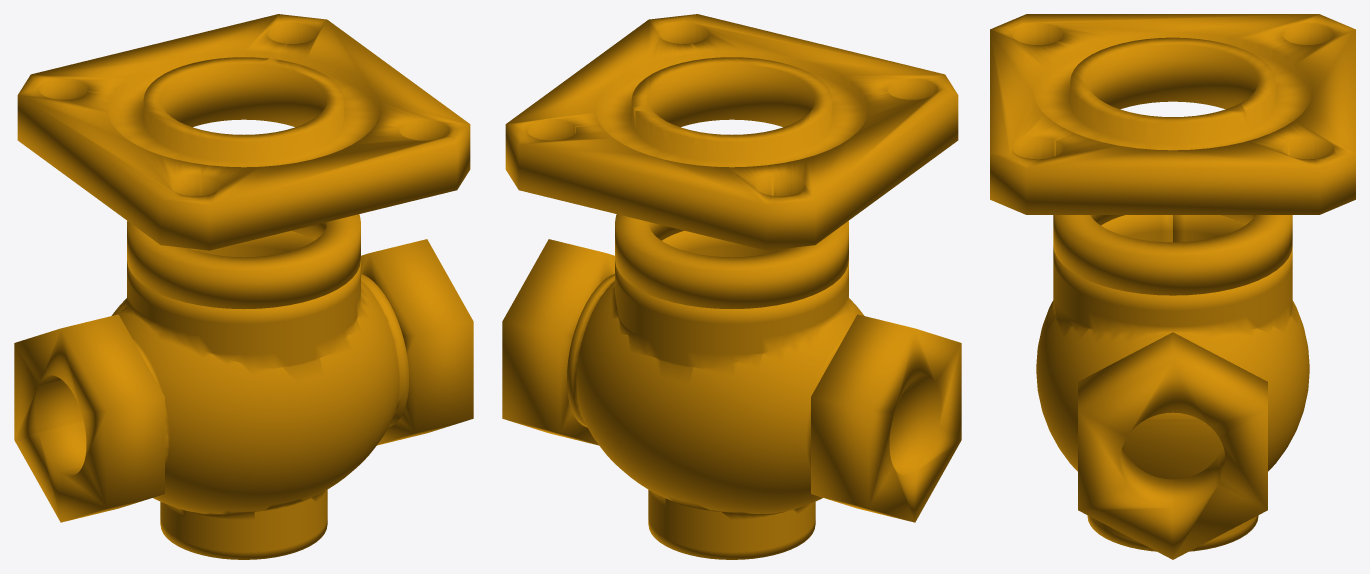
Rendered from Hydrant.glb.
3 renders of one model, left to right at view 1: azimuth 30°, elevation 25°; view 2: azimuth 150°, elevation 25°; view 3: azimuth 270°, elevation 25°, orthographic. The views are drawn at different scales.
Visible parts, largest first — view 1: Mesh.005, Mesh.004, Mesh.002, Mesh.003, Mesh, Mesh.006; view 2: Mesh.005, Mesh.004, Mesh.002, Mesh.003, Mesh, Mesh.006; view 3: Mesh.005, Mesh.003, Mesh.004, Mesh, Mesh.001, Mesh.006.
Boxes of the visible parts, x1,y1,x2,y2 form: Mesh.005: (17, 14, 470, 250); Mesh.004: (111, 260, 409, 559); Mesh.002: (14, 314, 164, 522); Mesh.003: (361, 239, 473, 445); Mesh: (127, 214, 360, 309); Mesh.006: (189, 230, 313, 257); Mesh.005: (505, 14, 958, 250); Mesh.004: (566, 260, 864, 559); Mesh.002: (811, 314, 961, 522); Mesh.003: (502, 239, 614, 445); Mesh: (615, 214, 848, 308); Mesh.006: (662, 230, 786, 257); Mesh.005: (990, 14, 1355, 214); Mesh.003: (1078, 332, 1267, 559); Mesh.004: (1036, 246, 1309, 551); Mesh: (1053, 215, 1292, 295); Mesh.001: (1123, 412, 1222, 479); Mesh.006: (1101, 215, 1244, 242).
Bounding box in the file's own units: 2.93 × 3.24 × 2.47.
